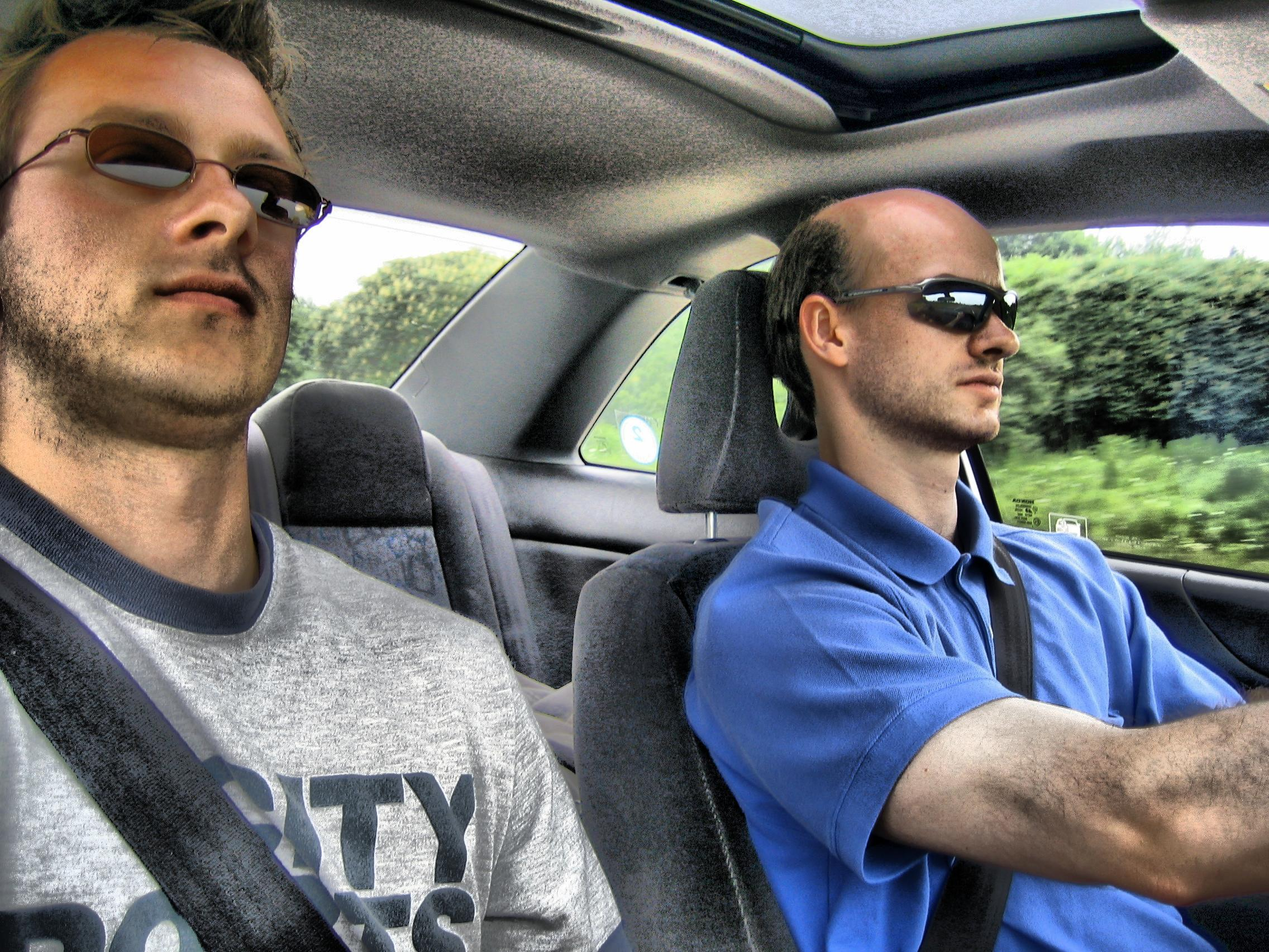seatbelt: (6, 540, 382, 950), (903, 491, 1035, 952)
